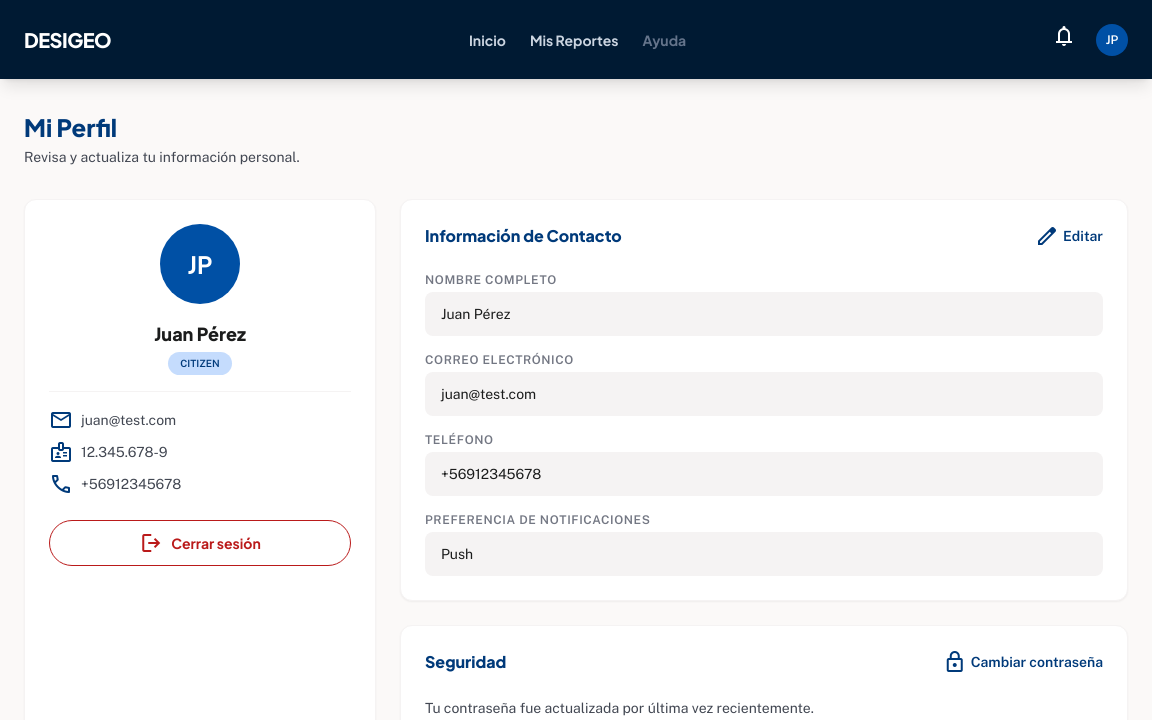
Test case: CP-PERFIL — Perfil de Usuario › CP-PERFIL-003: error del backend (contraseña actual incorrecta) muestra el mensaje del servidor
The width and height of the screenshot is (1152, 720).
Expected: the heading "Mi Perfil" is shown, [24,112,117,142]
Click the button "Cambiar contraseña": (1023, 662) [943,650,1103,674]
(page scrolled)
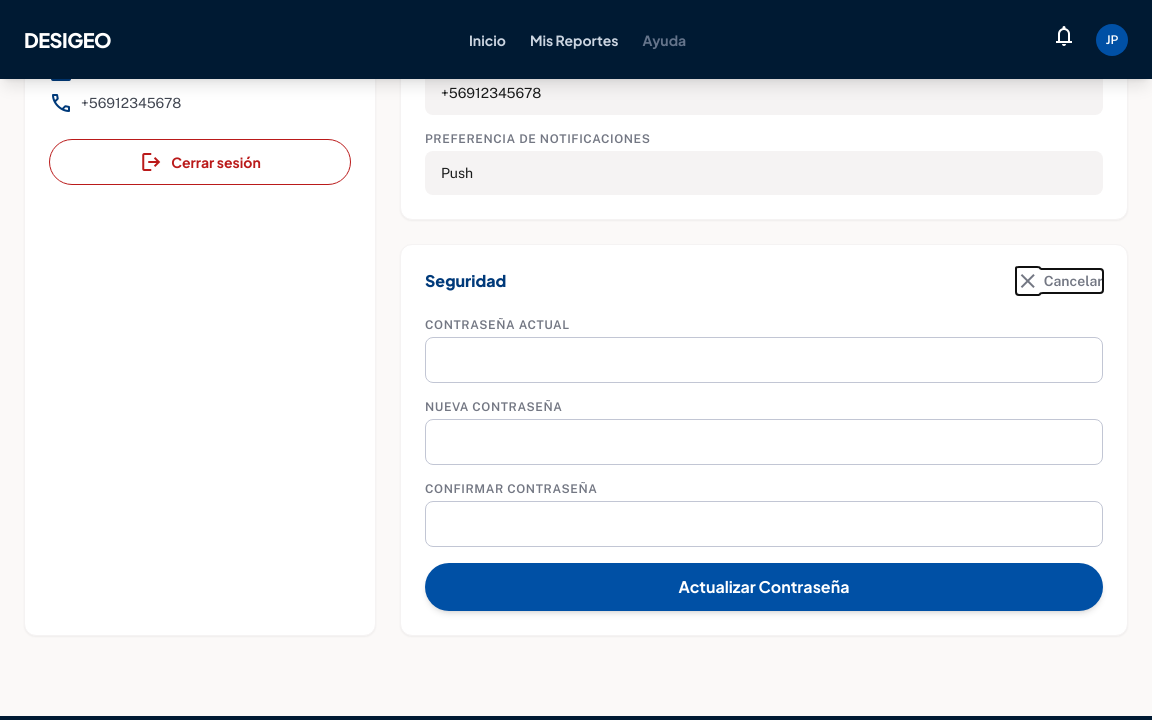
Result: the button "Actualizar Contraseña" is shown at [425,563,1103,611]
In the 1st password field: (764, 360) [425,337,1103,383], type "WrongOld!"
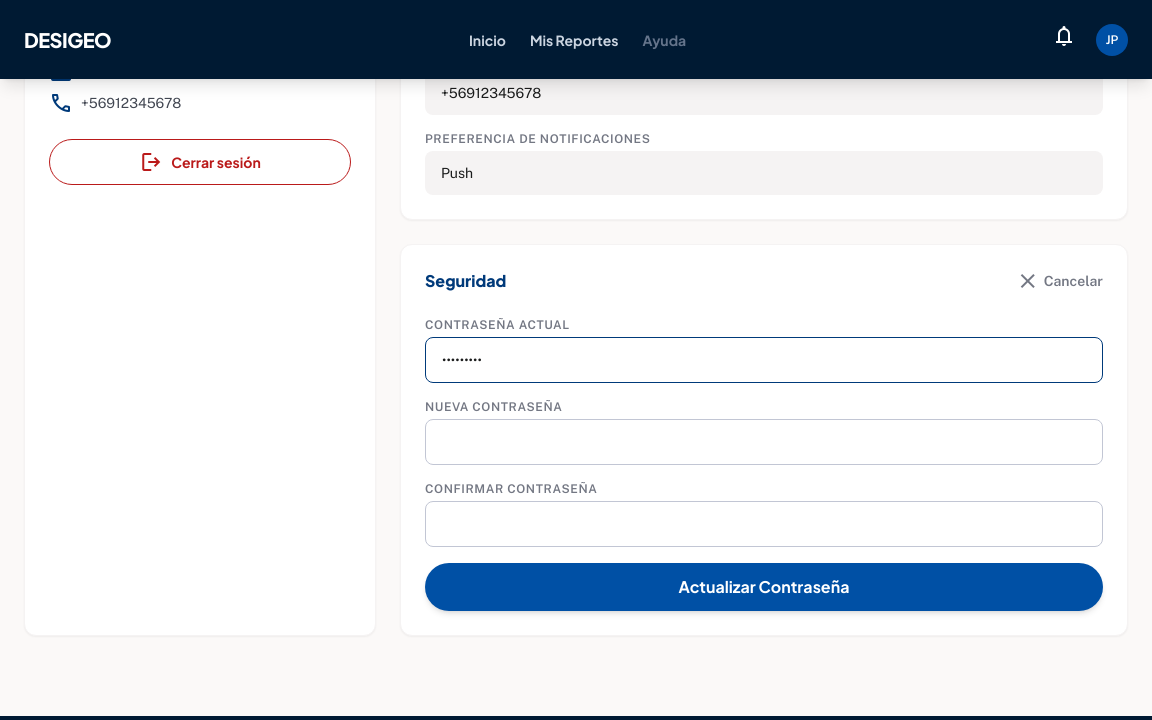
In the password field below "Nueva contraseña": (764, 442) [425,419,1103,465], type "NewPass456!"
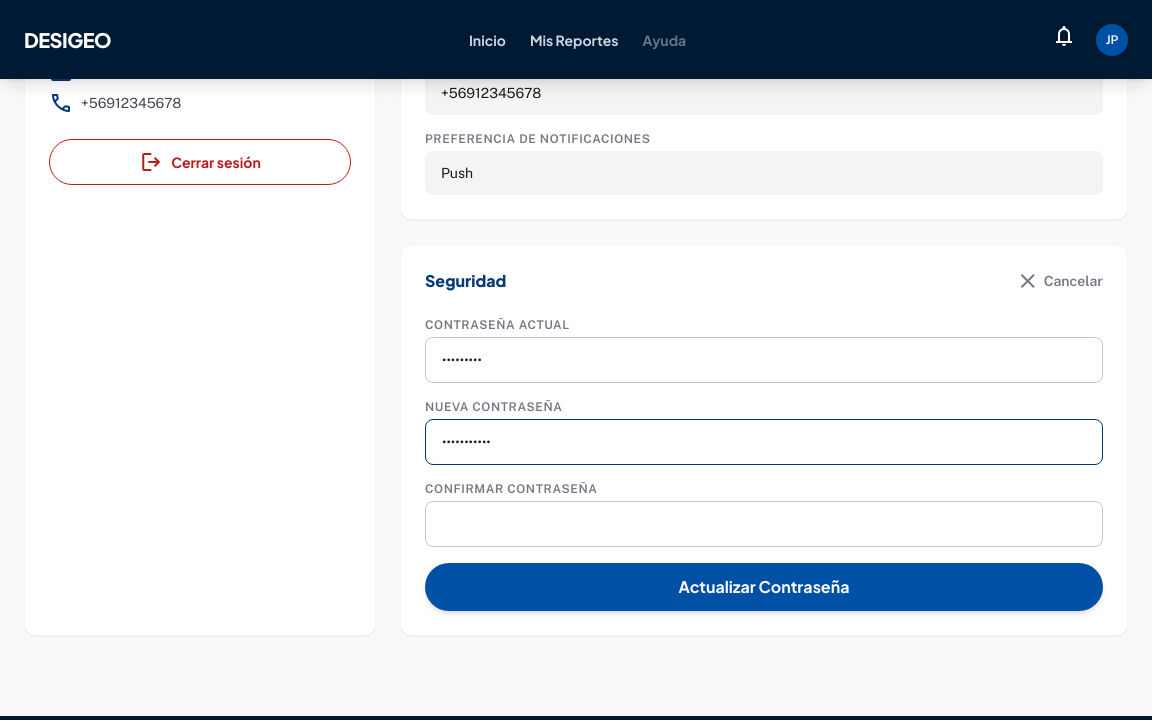
In the password field below "Confirmar contraseña": (764, 524) [425,501,1103,547], type "NewPass456!"
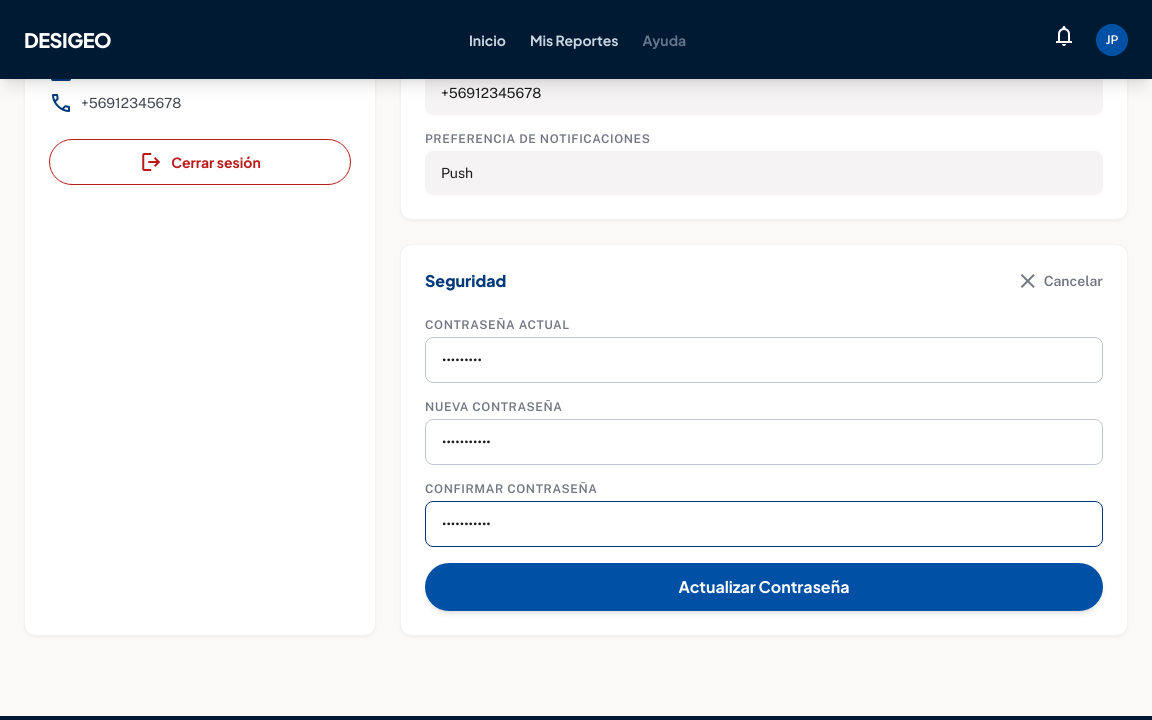
Click the button "Actualizar Contraseña": (764, 587) [425,563,1103,611]
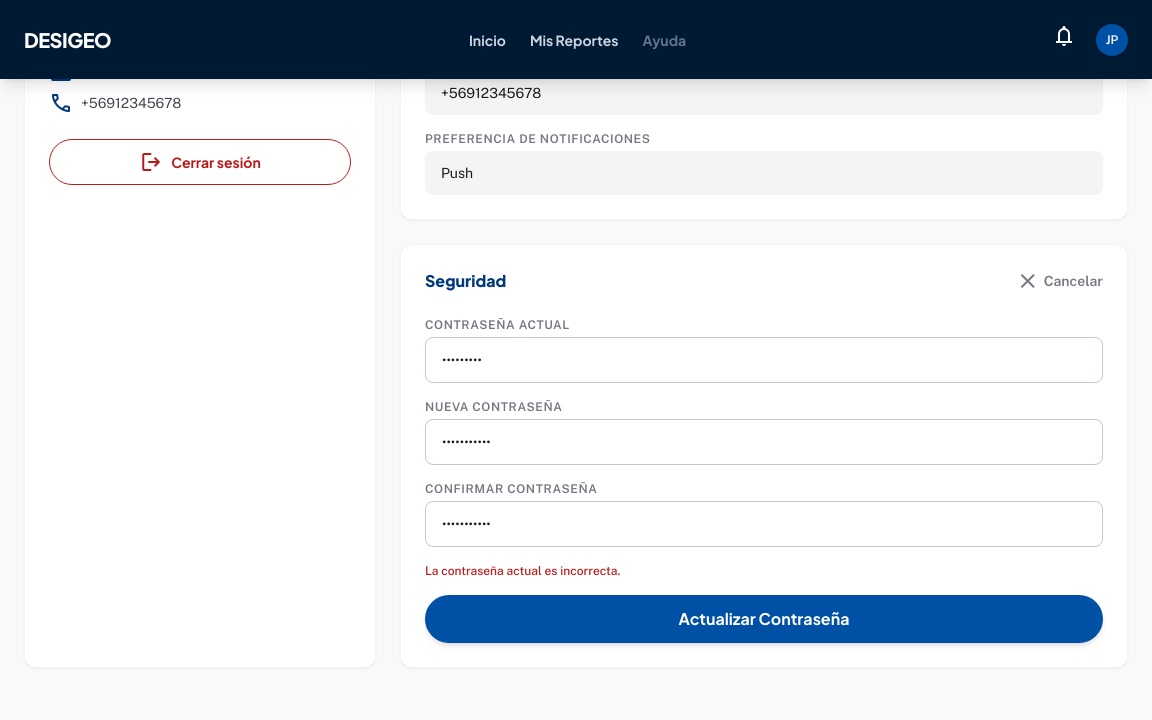
Result: the text "La contraseña actual es incorrecta." is shown at [425,564,620,578]
